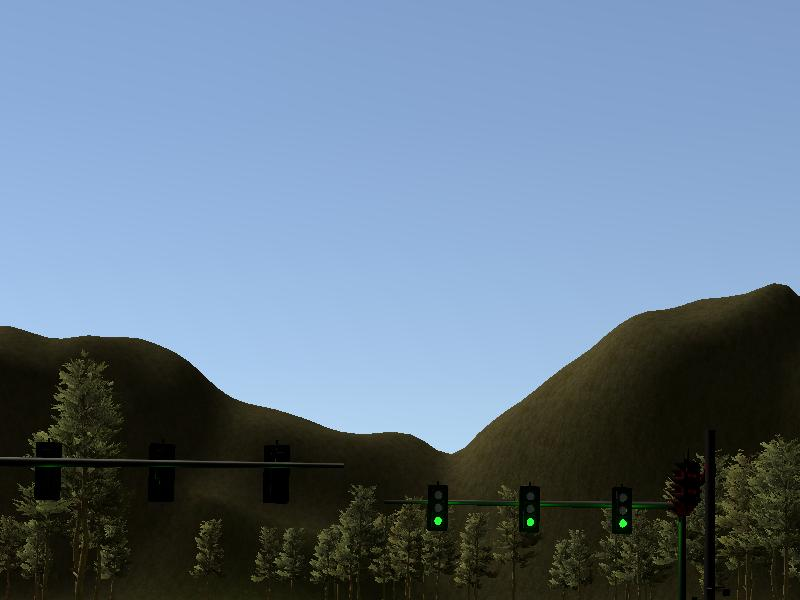Green: (427, 485, 449, 531), (518, 487, 538, 532), (612, 489, 632, 534)
